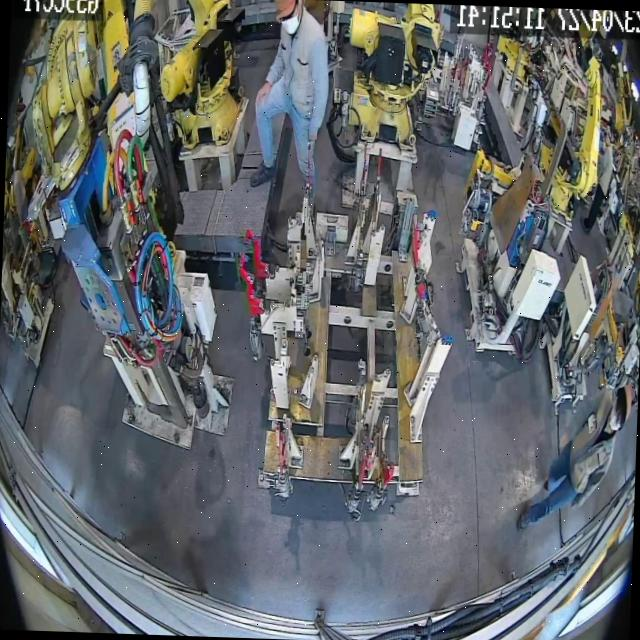Person: (511, 376, 636, 546), (249, 0, 332, 194)
